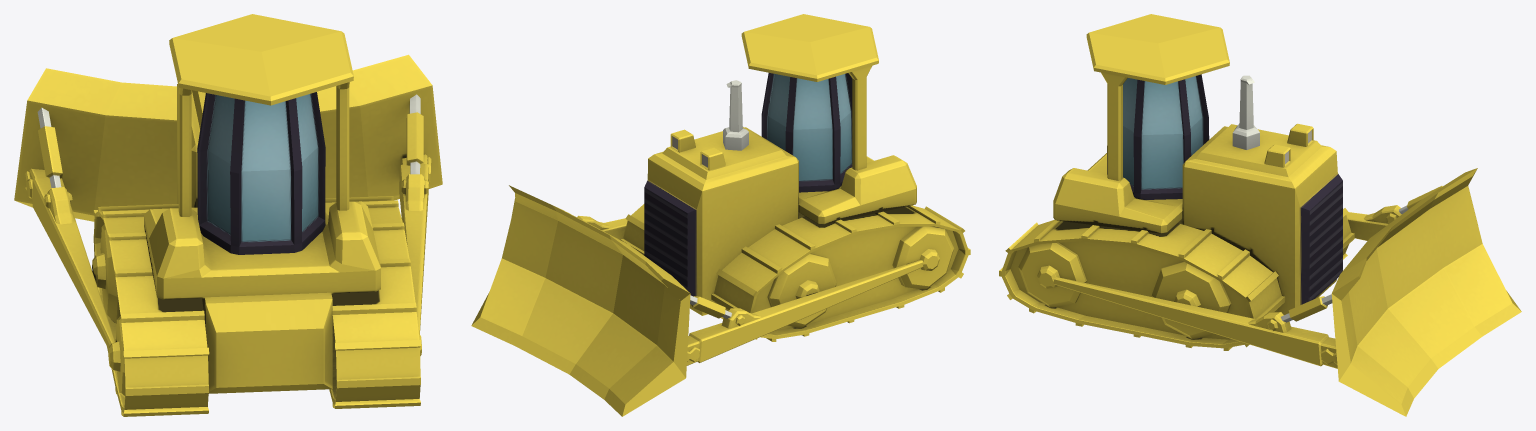
The model's file is bulldozer_mesh_lev3.glb.
3 renders of one model, left to right at view 1: azimuth 30°, elevation 25°; view 2: azimuth 150°, elevation 25°; view 3: azimuth 270°, elevation 25°, orthographic. The views are drawn at different scales.
Parts seen in each view (by area): view 1: bulldozer_mesh_lev3; view 2: bulldozer_mesh_lev3; view 3: bulldozer_mesh_lev3.
Part boxes in pixels (x1,y1,x2,y2): bulldozer_mesh_lev3: [14, 14, 442, 416]; bulldozer_mesh_lev3: [471, 14, 970, 416]; bulldozer_mesh_lev3: [999, 14, 1521, 416].
Size of the model in its own units: 5.51 by 3.89 by 6.79.
Materials: 1 (1 with a texture image).
